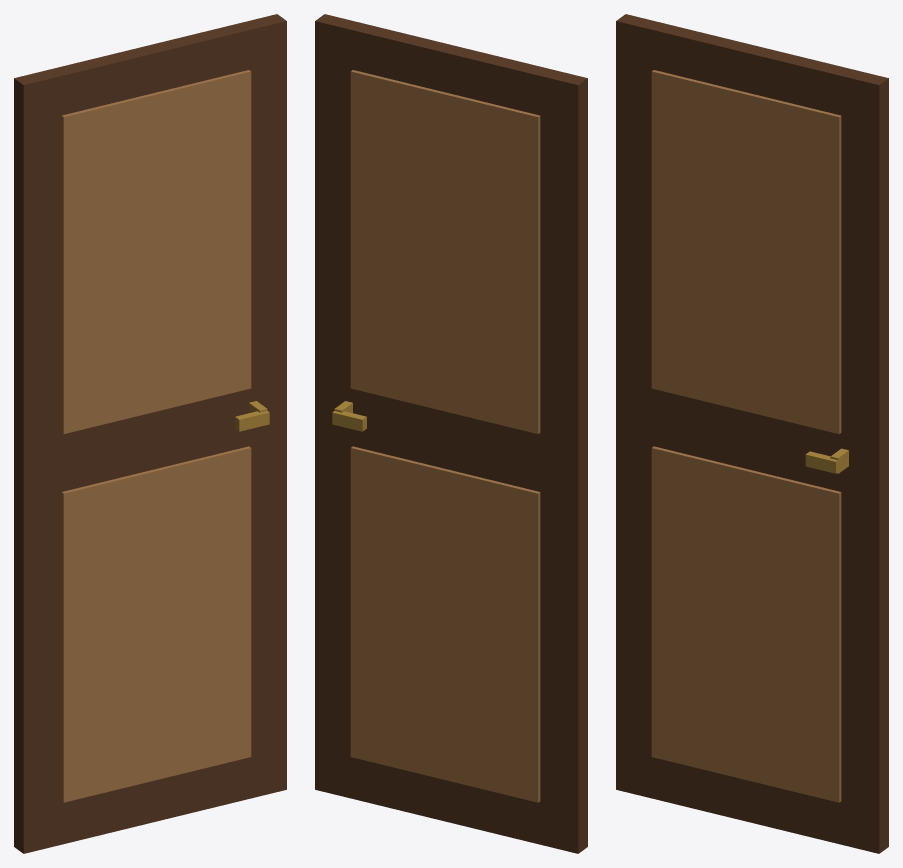
The model's file is door_wood.glb.
3 renders of one model, left to right at view 1: azimuth 30°, elevation 25°; view 2: azimuth 150°, elevation 25°; view 3: azimuth 330°, elevation 25°, orthographic.
Visible parts, largest first — view 1: door_wood; view 2: door_wood; view 3: door_wood.
Part boxes in pixels (box(x1,y1,x2,y2)): door_wood: box(14, 14, 286, 853); door_wood: box(315, 14, 587, 853); door_wood: box(616, 14, 888, 853).
Bounding box in the file's own units: 0.695 × 1.94 × 0.164.
Materials: 1 (1 with a texture image).
